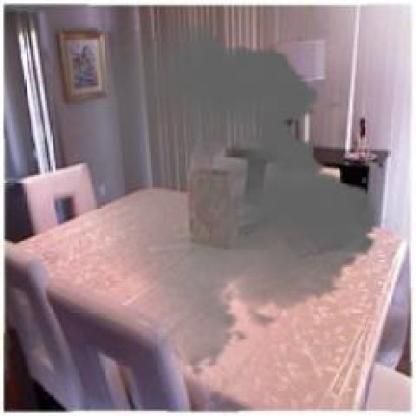Smoke: (24, 16, 390, 377)
